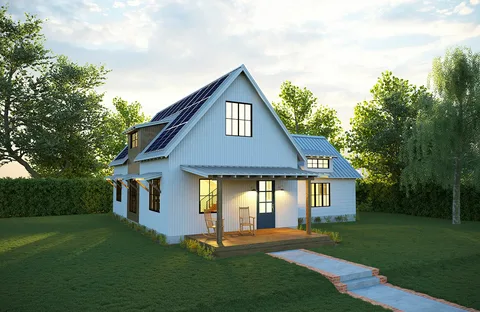private_hause: (123, 103, 369, 232)
